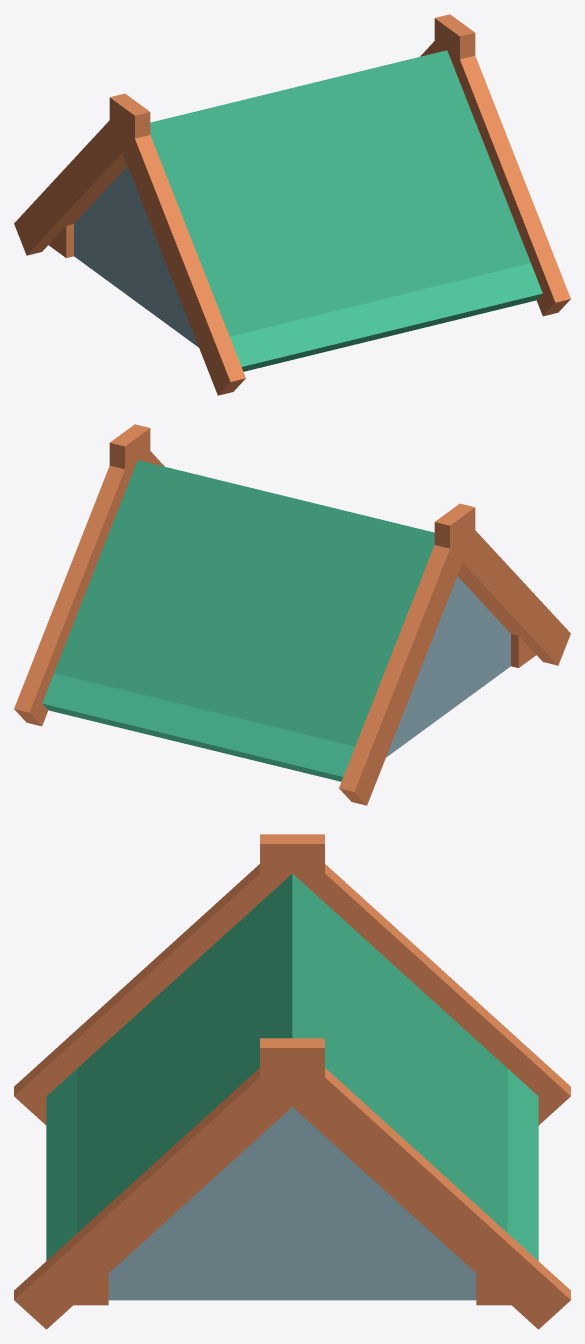
File: roofGableDetail.fbx
3 renders of one model, top to bottom at view 1: azimuth 30°, elevation 25°; view 2: azimuth 150°, elevation 25°; view 3: azimuth 270°, elevation 25°, orthographic. The views are drawn at different scales.
Parts seen in each view (by area): view 1: roofGableDetail; view 2: roofGableDetail; view 3: roofGableDetail.
Boxes of the visible parts, x1=… form: roofGableDetail: x1=14, y1=14, x2=570, y2=395; roofGableDetail: x1=14, y1=424, x2=570, y2=805; roofGableDetail: x1=14, y1=834, x2=570, y2=1329.
Bounding box in the file's own units: 11 × 6.77 × 12.12.
